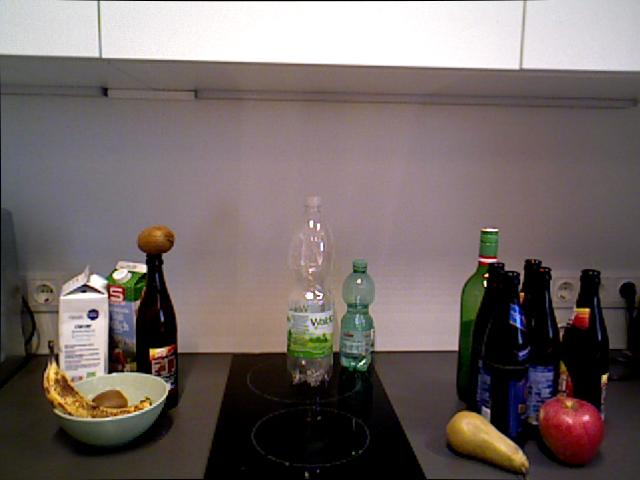bench: (285, 195, 335, 386), (477, 269, 530, 449), (53, 261, 114, 395), (456, 226, 500, 404), (561, 268, 609, 421), (103, 252, 155, 391), (134, 250, 179, 410), (515, 254, 551, 429), (525, 265, 560, 434), (475, 255, 507, 423), (338, 259, 375, 372)
bicycle: (537, 396, 604, 466)
bird: (51, 371, 169, 447)
motorcycle: (43, 342, 154, 423)
